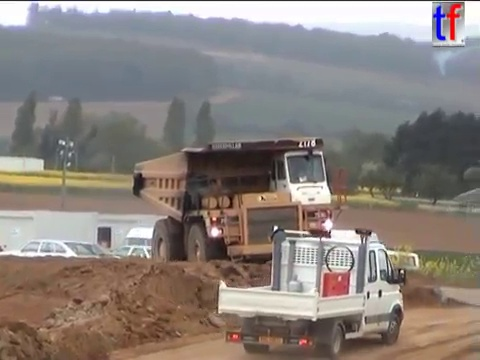truck: (130, 134, 351, 284), (213, 223, 410, 360)
